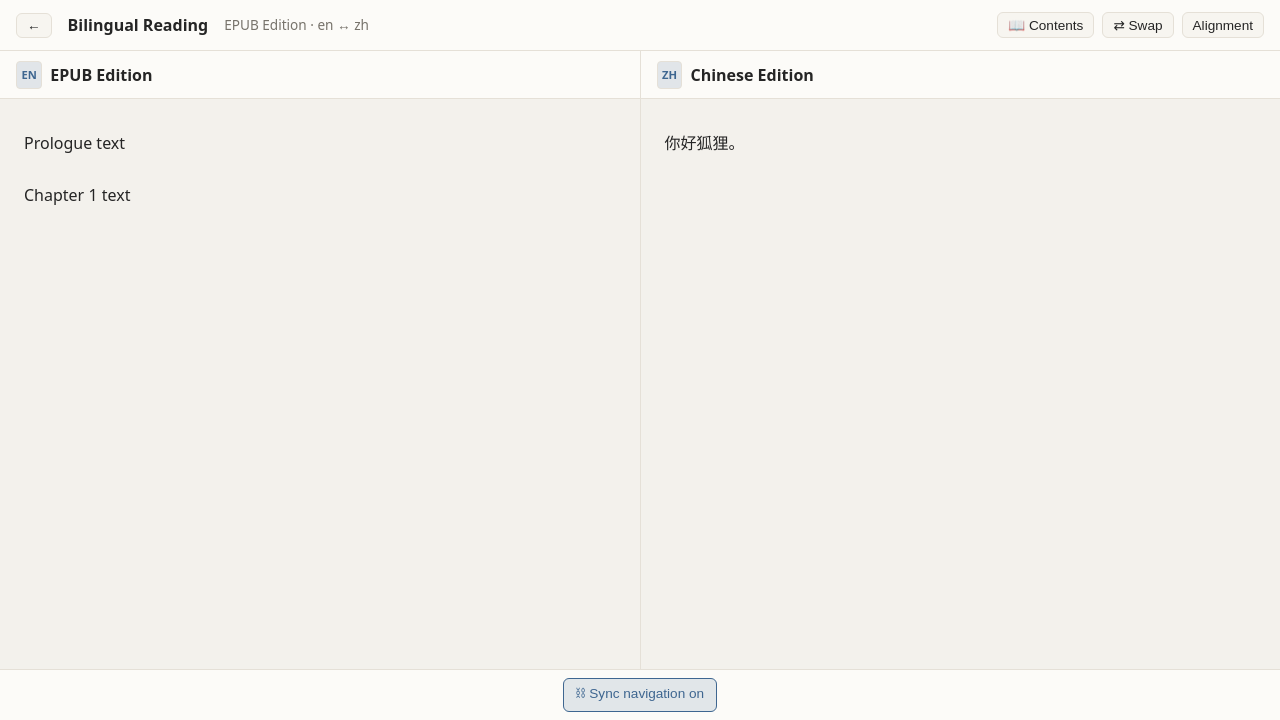
BilingualReader › uses real EPUB publication TOC when available in Contents drawer
The width and height of the screenshot is (1280, 720).
Expected: the text "Prologue text Chapter 1 text" is shown, [24,132,130,206]
Click the button "📖 Contents". click: (1046, 25)
box: [997,12,1094,38]
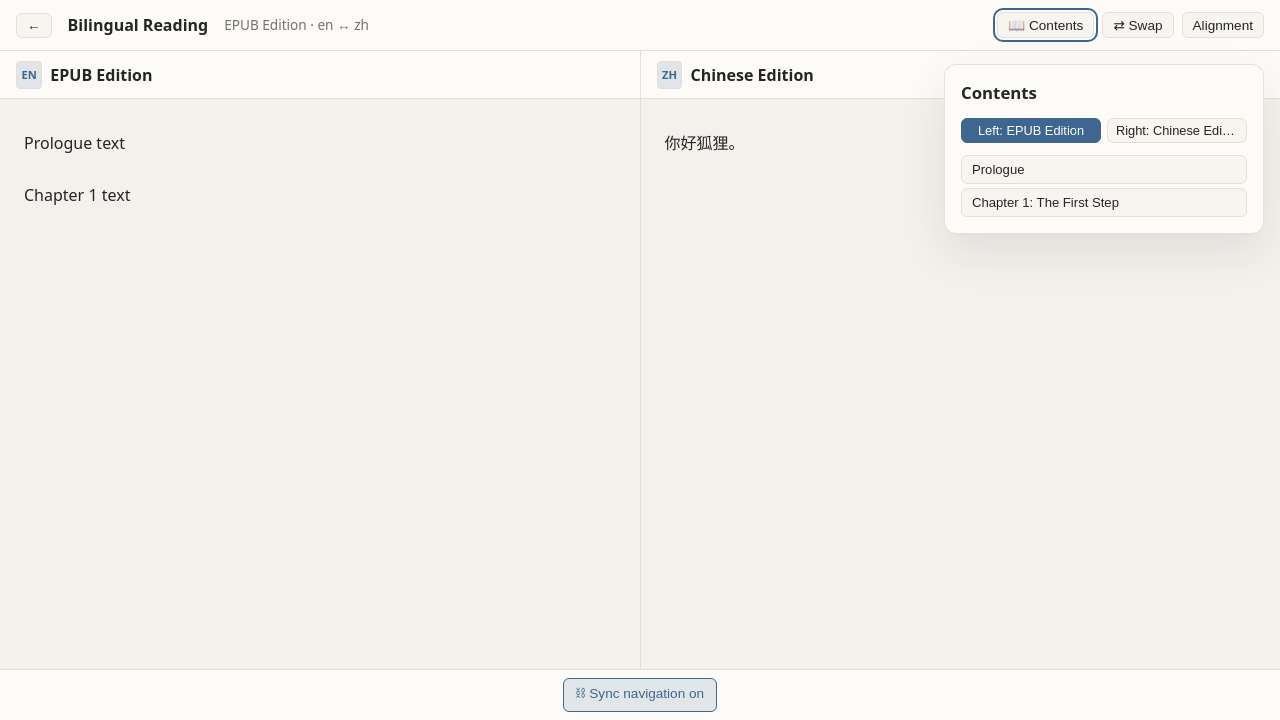
Now the element named "Book Contents" is shown, box [944,64,1264,234]
Now the button "Prologue" is shown, box [961,155,1247,184]
Now the button "Chapter 1: The First Step" is shown, box [961,188,1247,217]
